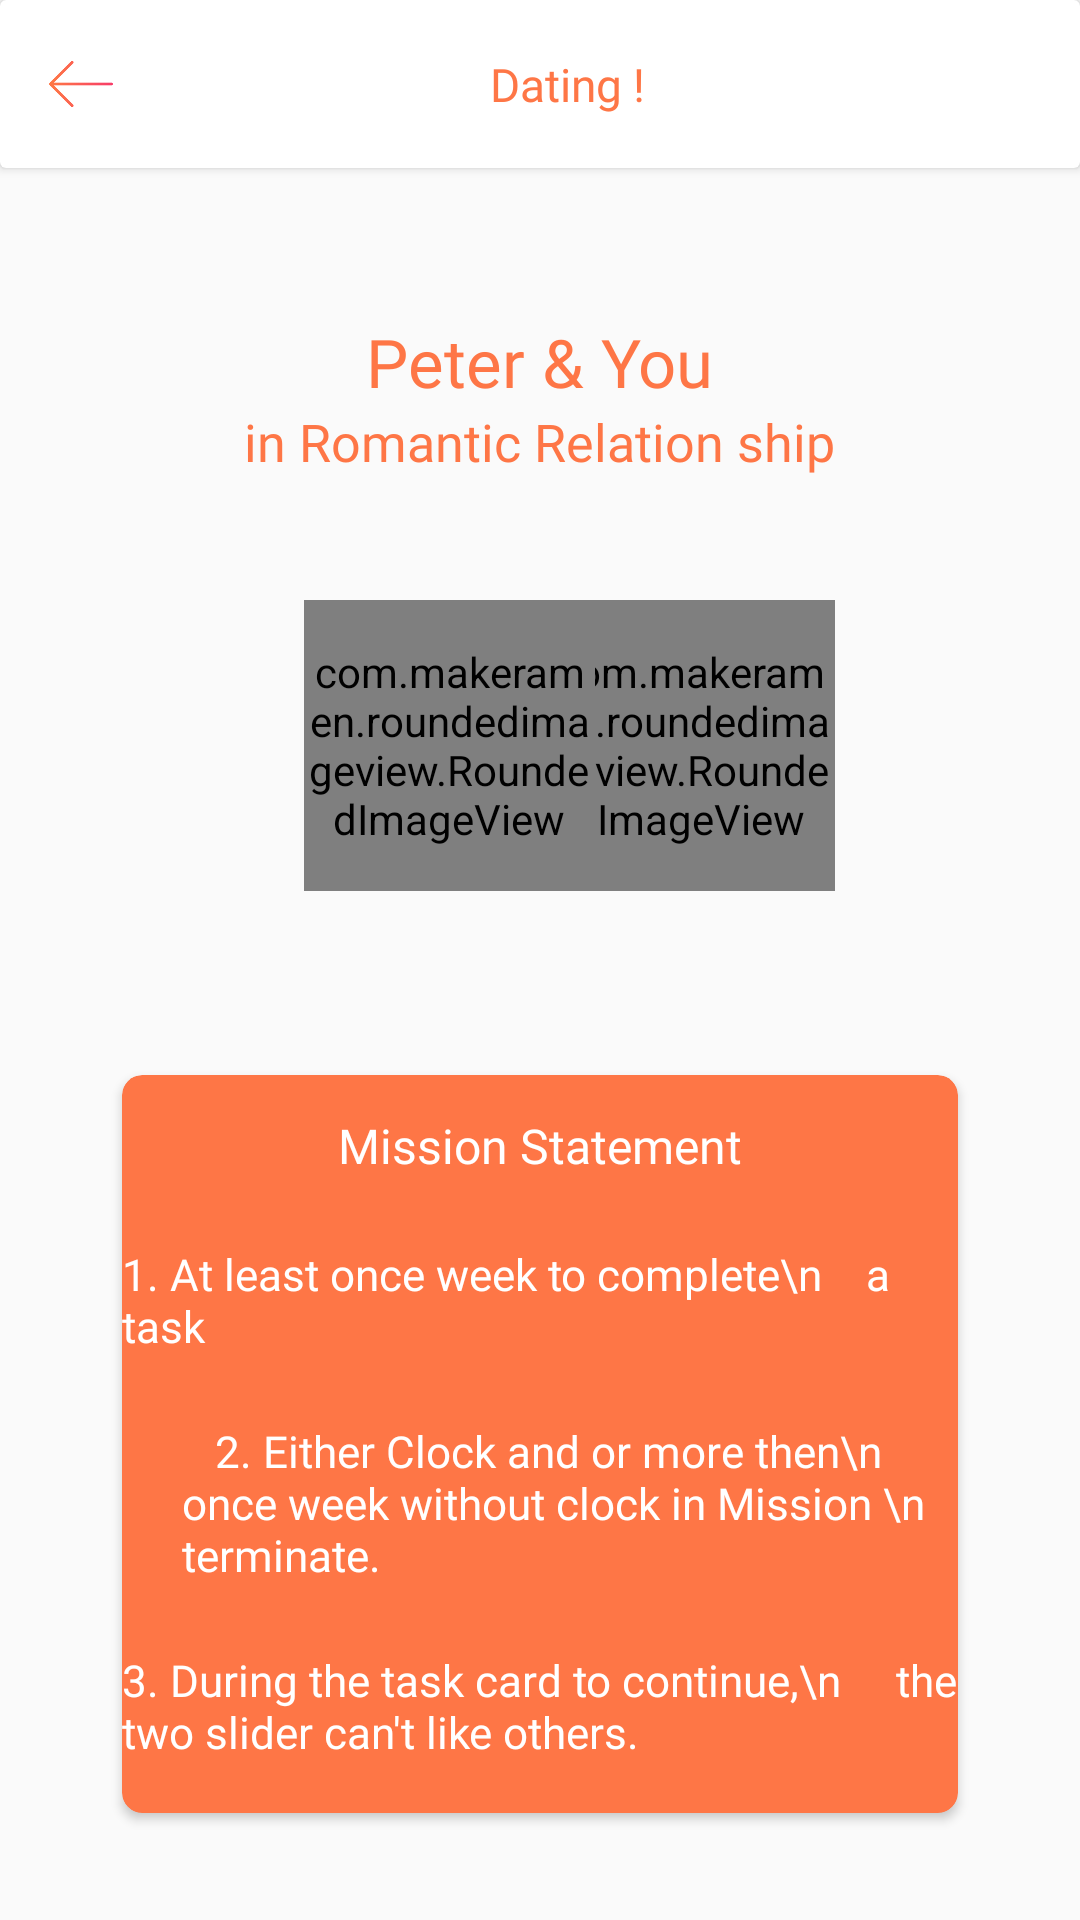

Icon bounding boxes for this 1080 x 1920 phone screenshot, format (x1, y1, x2, y2):
left arrow: (49, 61, 113, 107)
